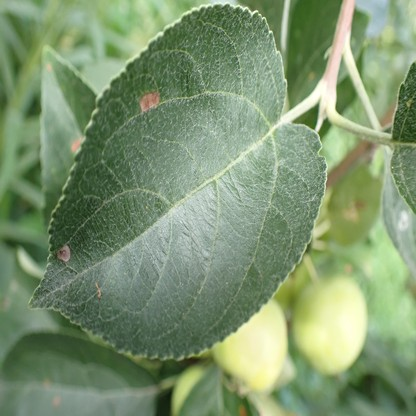frogeye: (140, 91, 160, 112), (56, 244, 70, 260), (71, 137, 84, 152)
